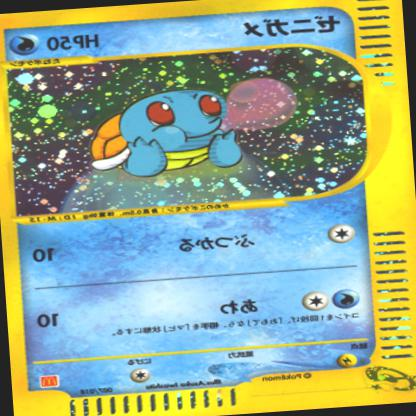Squirtle: (81, 82, 247, 183)
